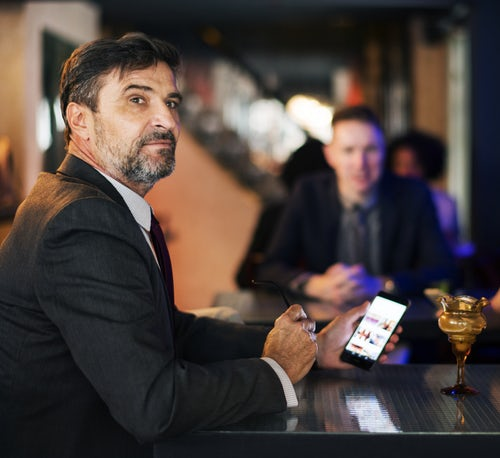phone: (341, 288, 410, 369)
